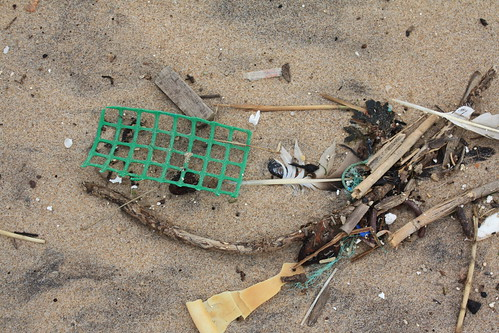trash: (77, 58, 499, 333)
